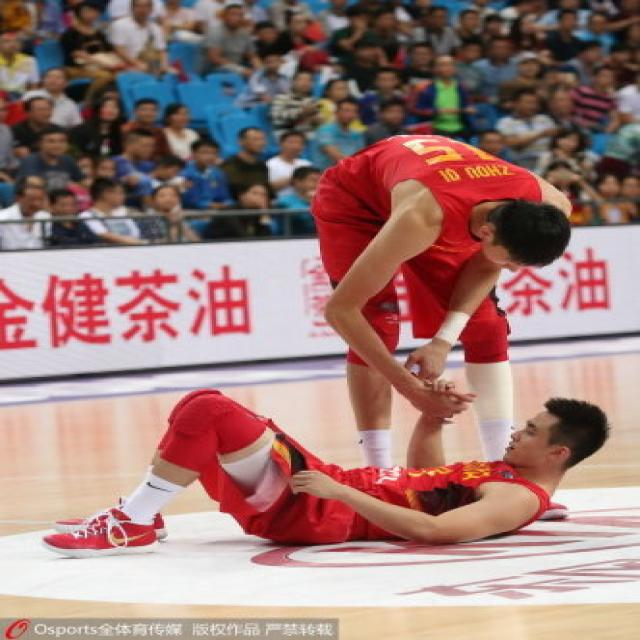10-: (0, 4, 638, 536)
down: (10, 387, 609, 549)
